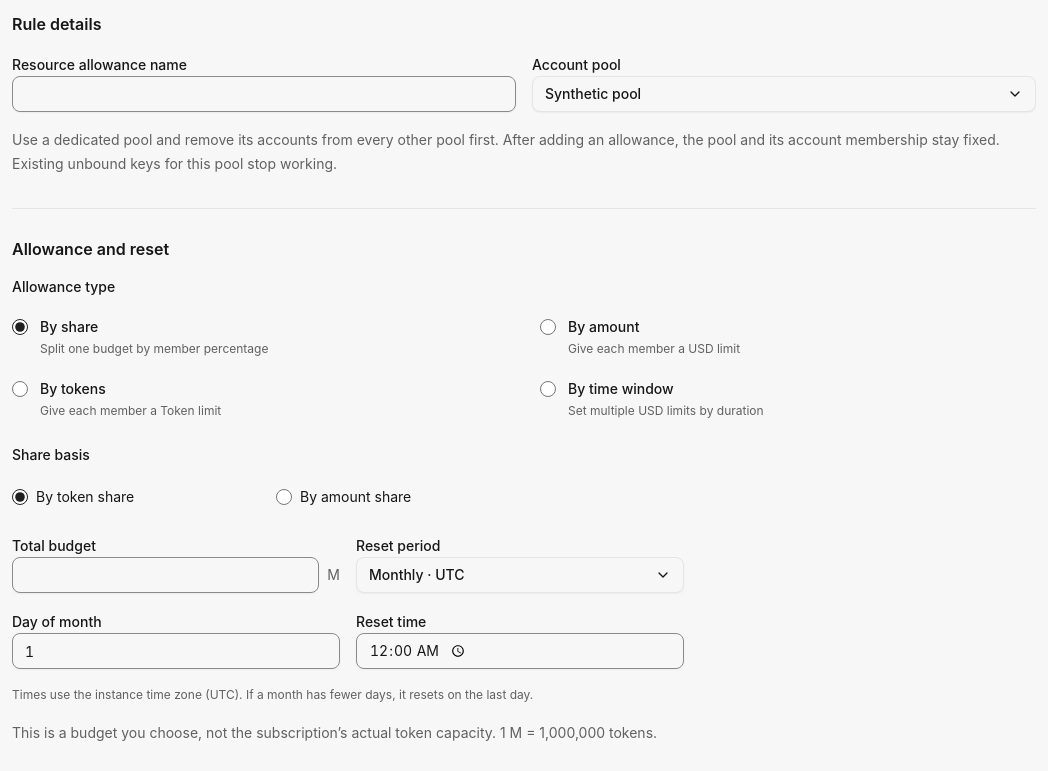
Test case: shows the future edit delay while configuring a time window
Step 1. Click the radio button labelled "By time window" → x=548, y=389, box top-left (540, 381), bottom-right (556, 397)
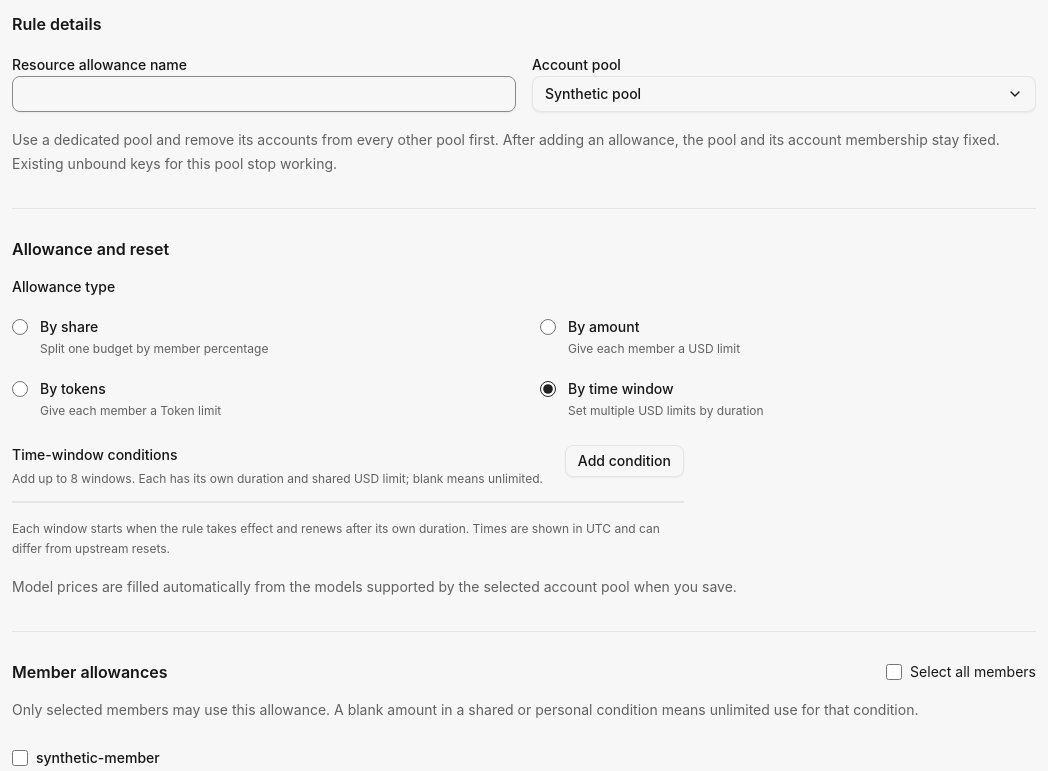
Step 2. Click the button "Add condition" → x=624, y=461, box top-left (565, 445), bottom-right (684, 477)
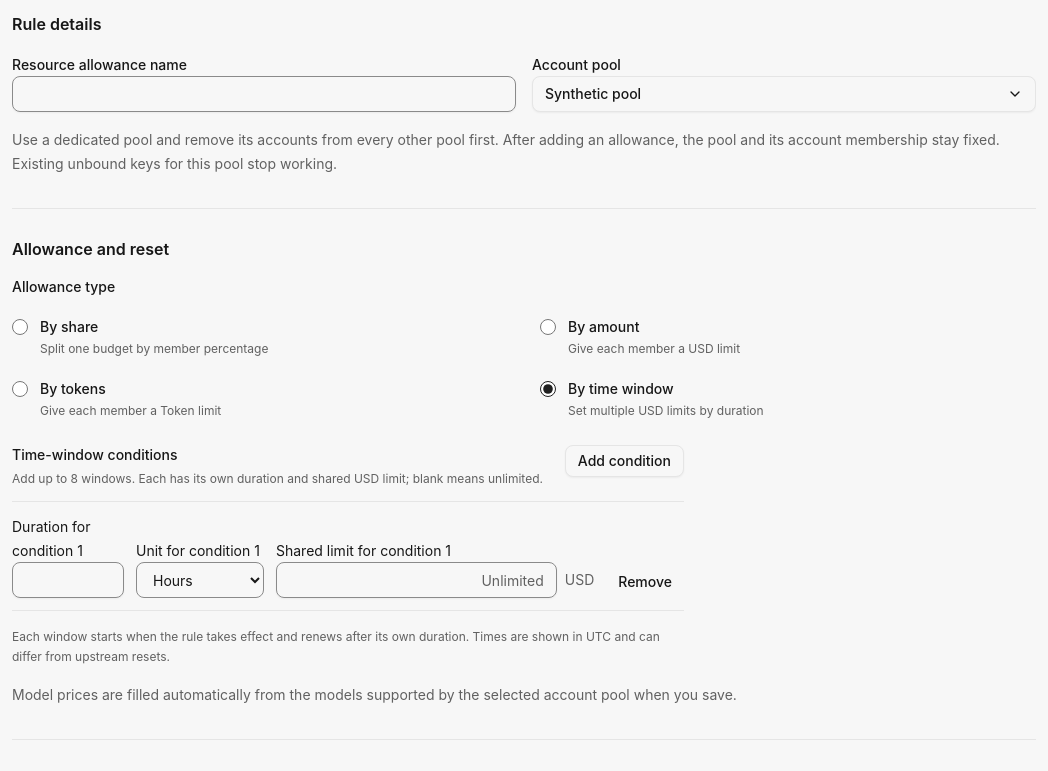
Step 3. Type "30" into the number field labelled "Duration for condition 1" → x=68, y=580, box top-left (12, 562), bottom-right (124, 598)
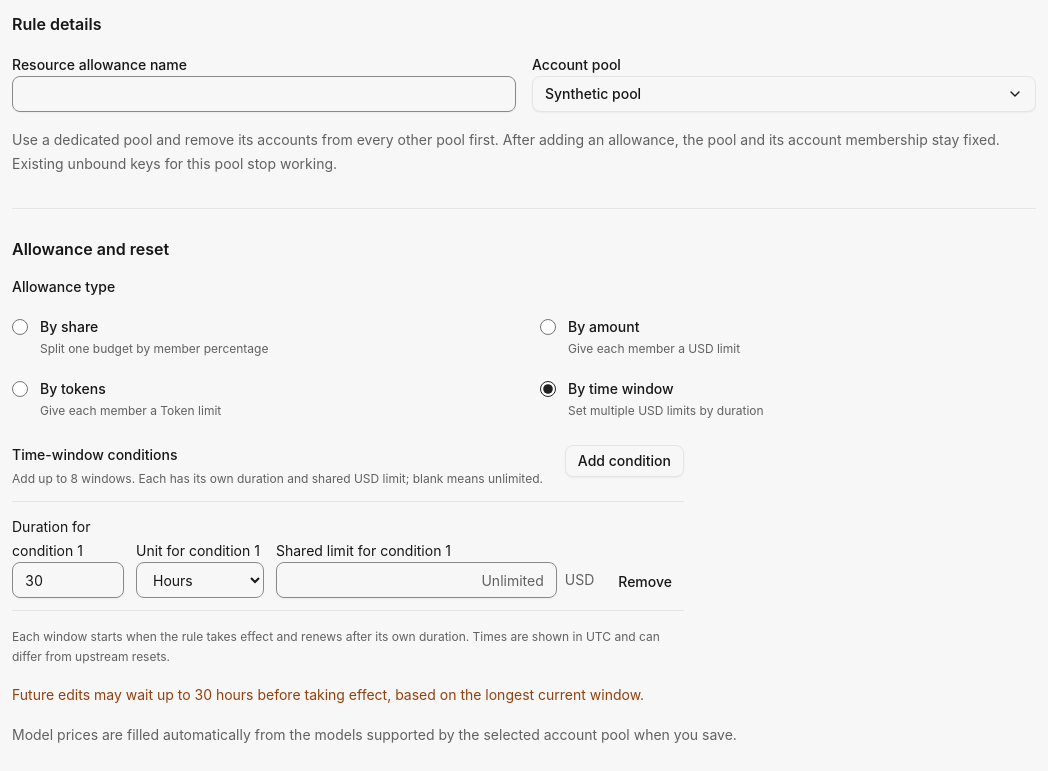
Step 4. Select "Days" in the dropdown labelled "Unit for condition 1" → x=200, y=580, box top-left (136, 562), bottom-right (264, 598)
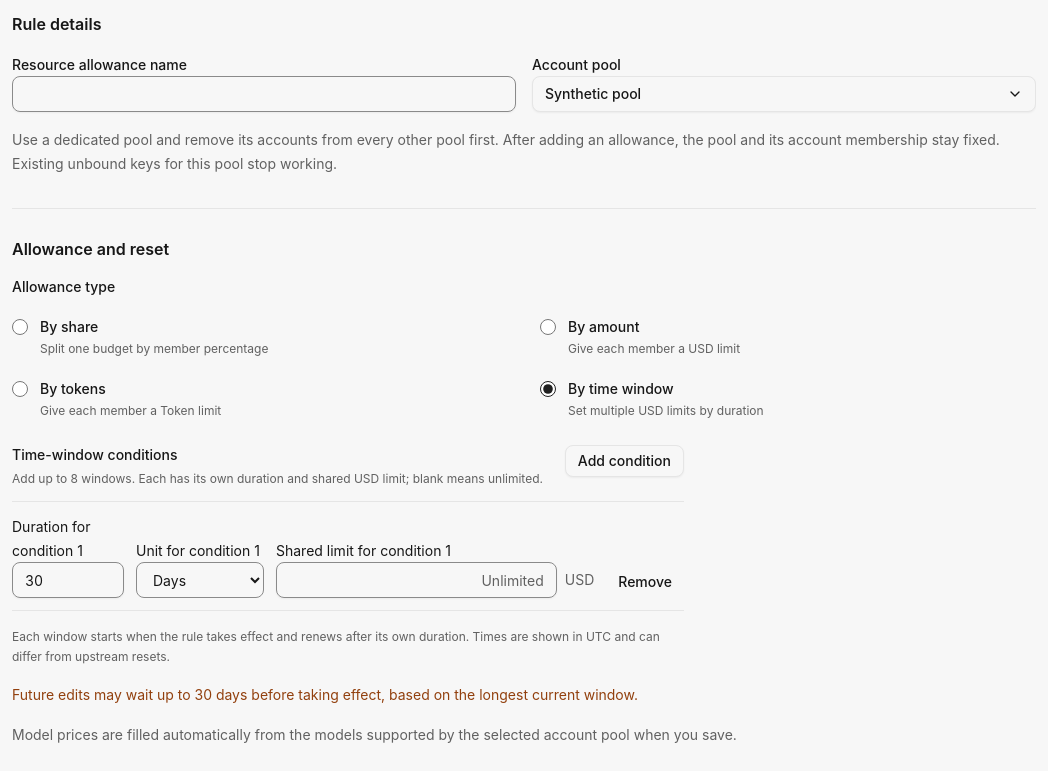
Expected: the text "Future edits may wait up to 30 days" is shown, top-left (12, 686), bottom-right (638, 703)
